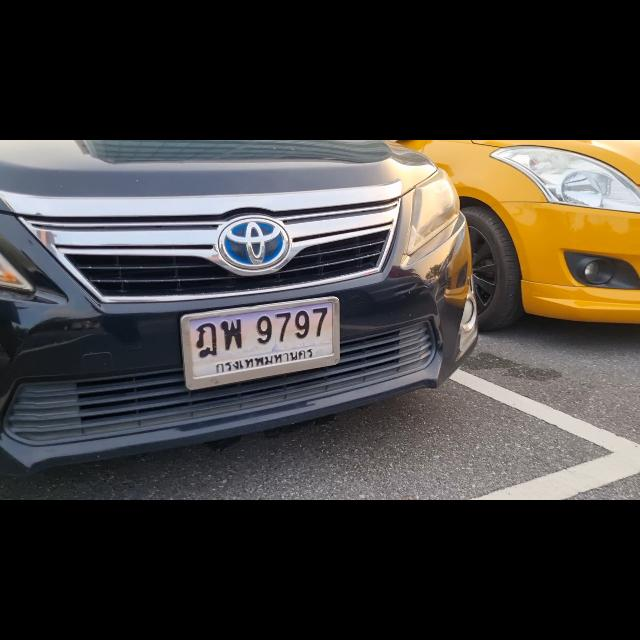licenseplate: (182, 294, 342, 390)
